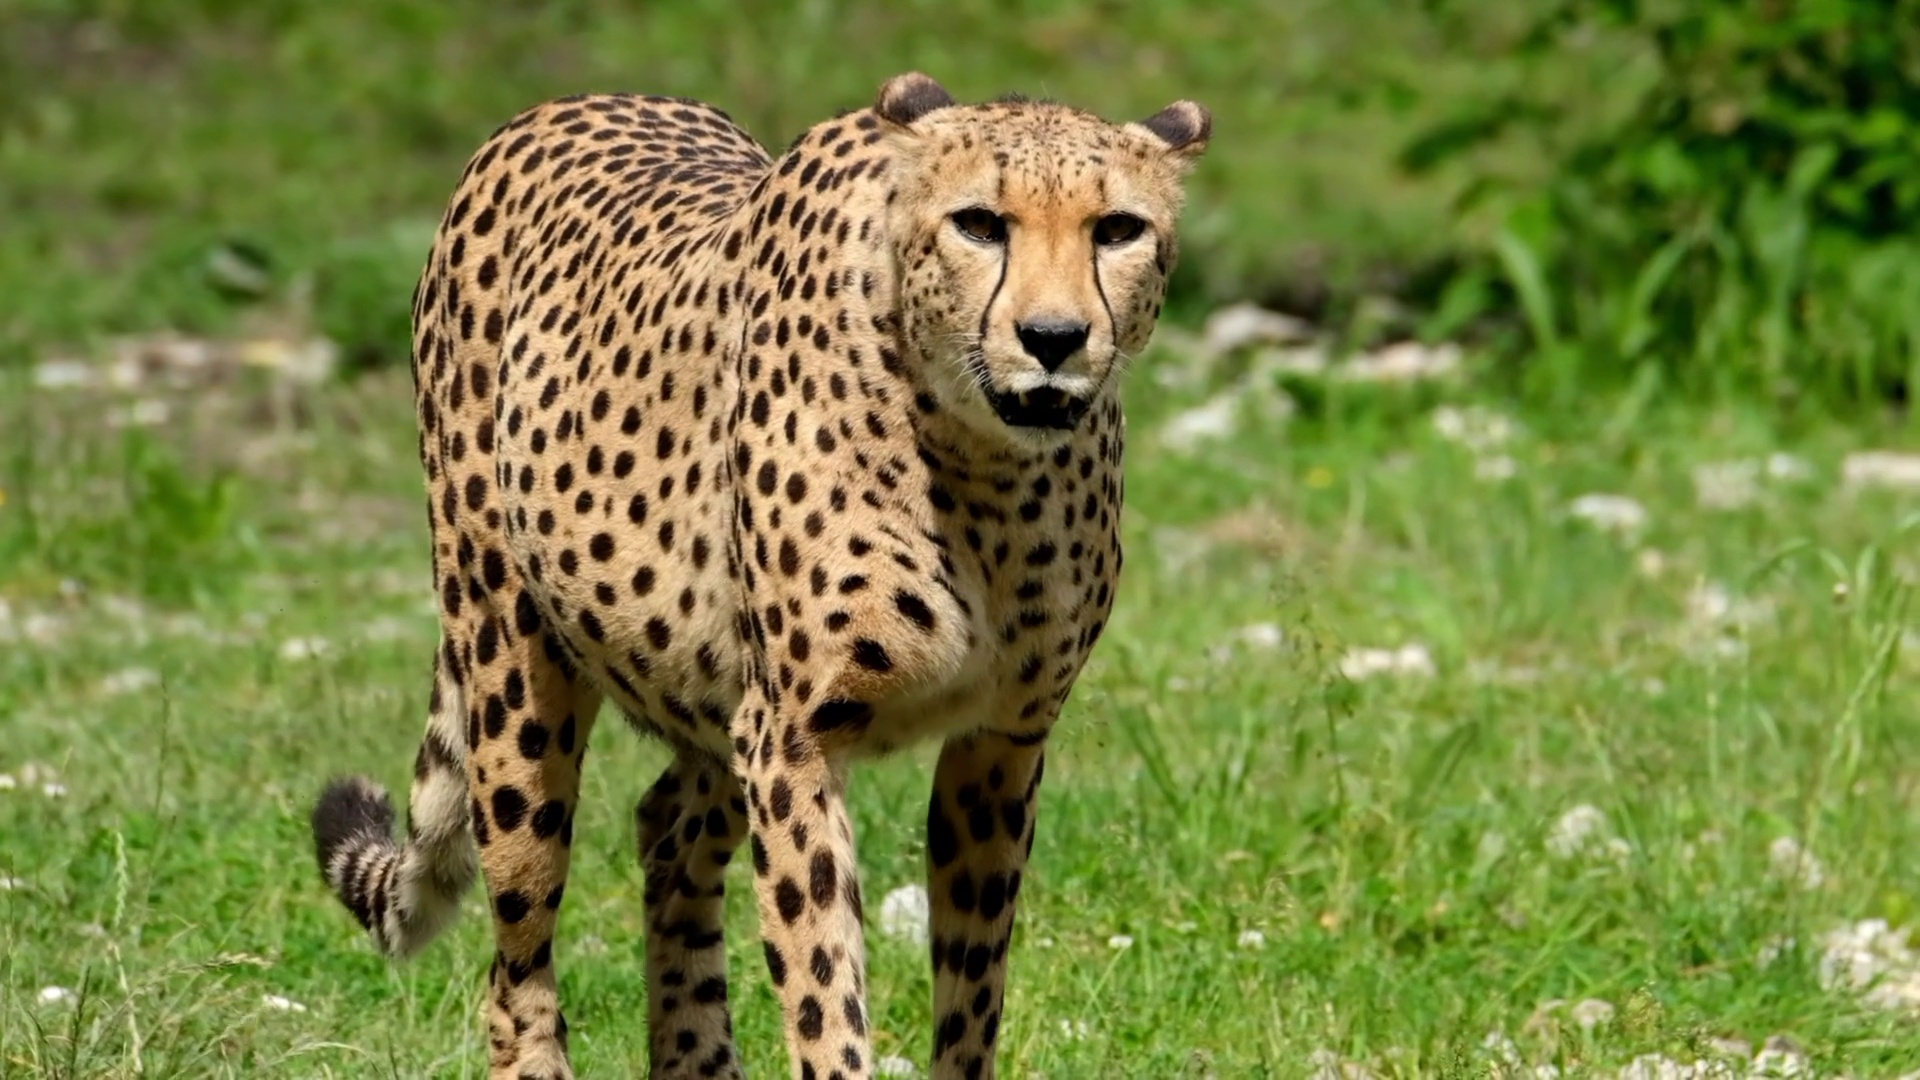Cheetah: (310, 65, 1211, 1080)
